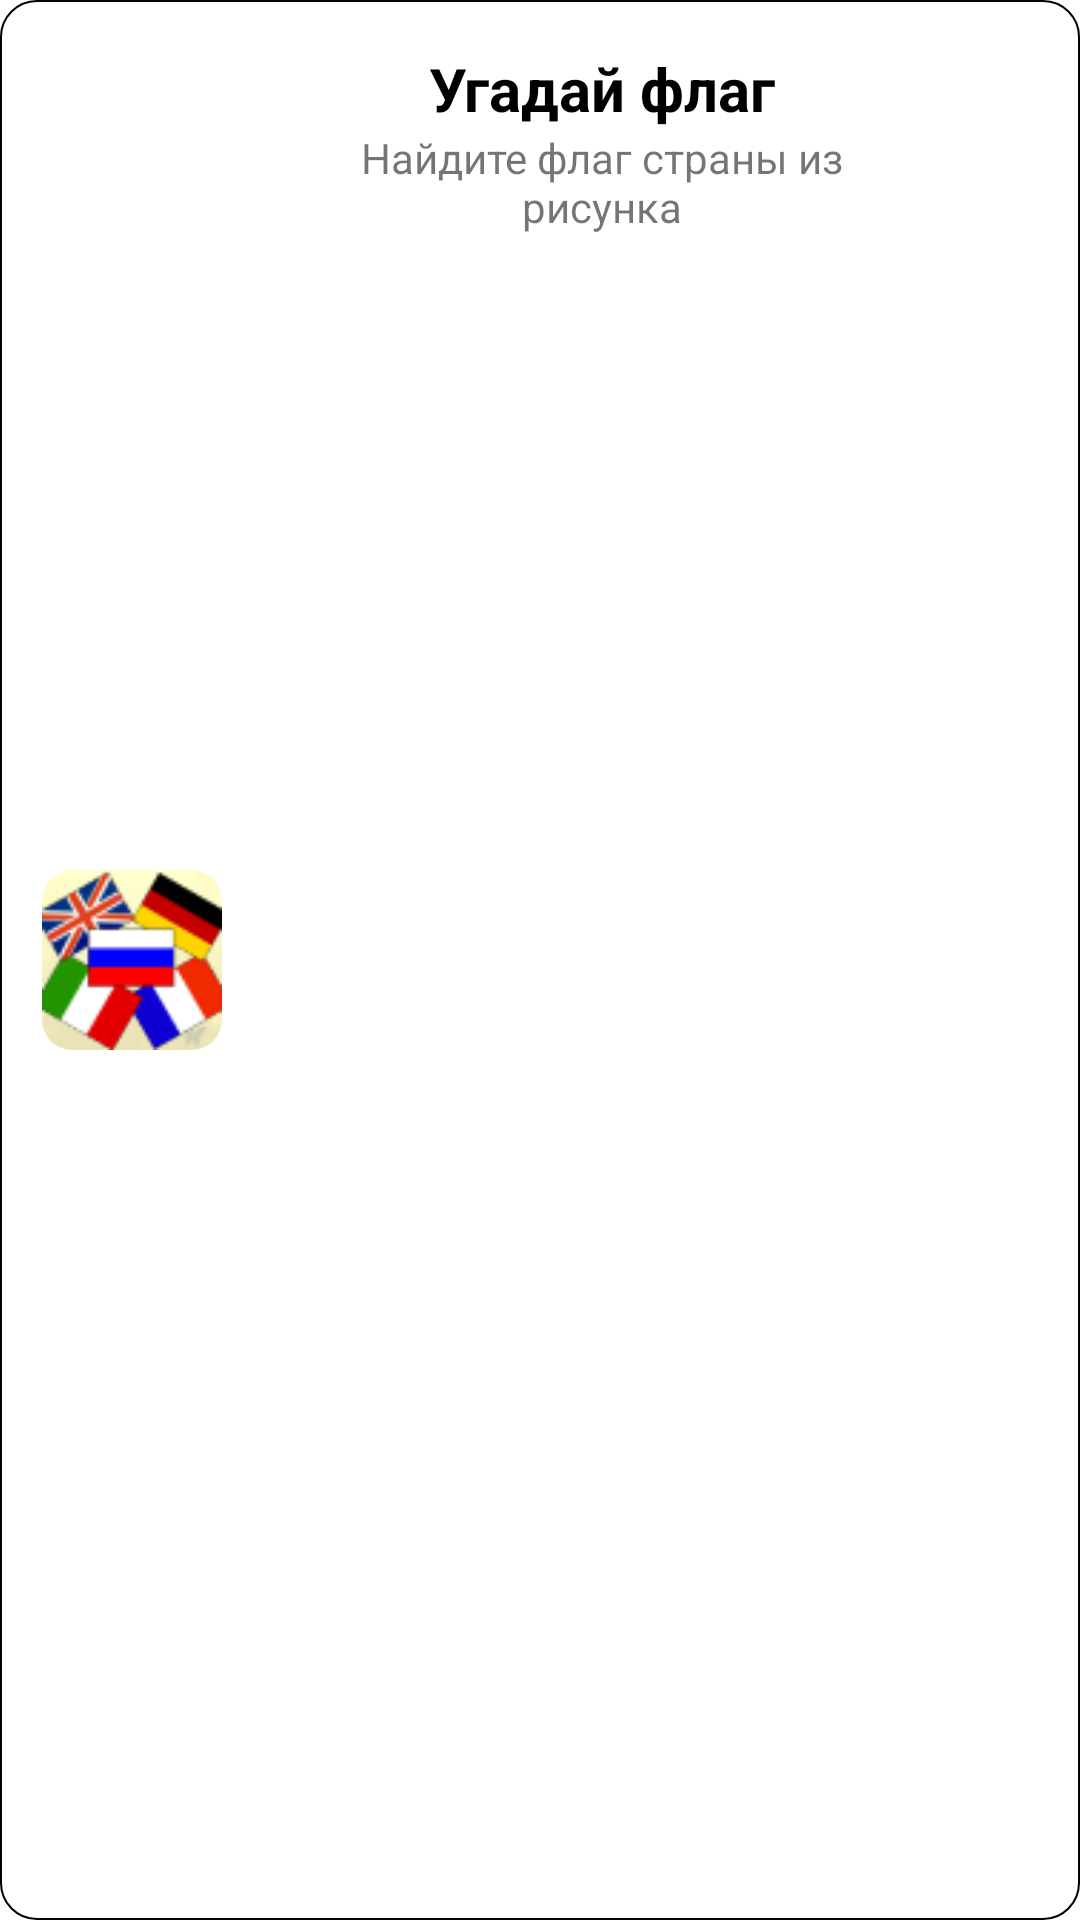

Screen size 1080x1920. Icon name, then its center in pixels as (x=x, y=y):
flag: (x=132, y=960)
